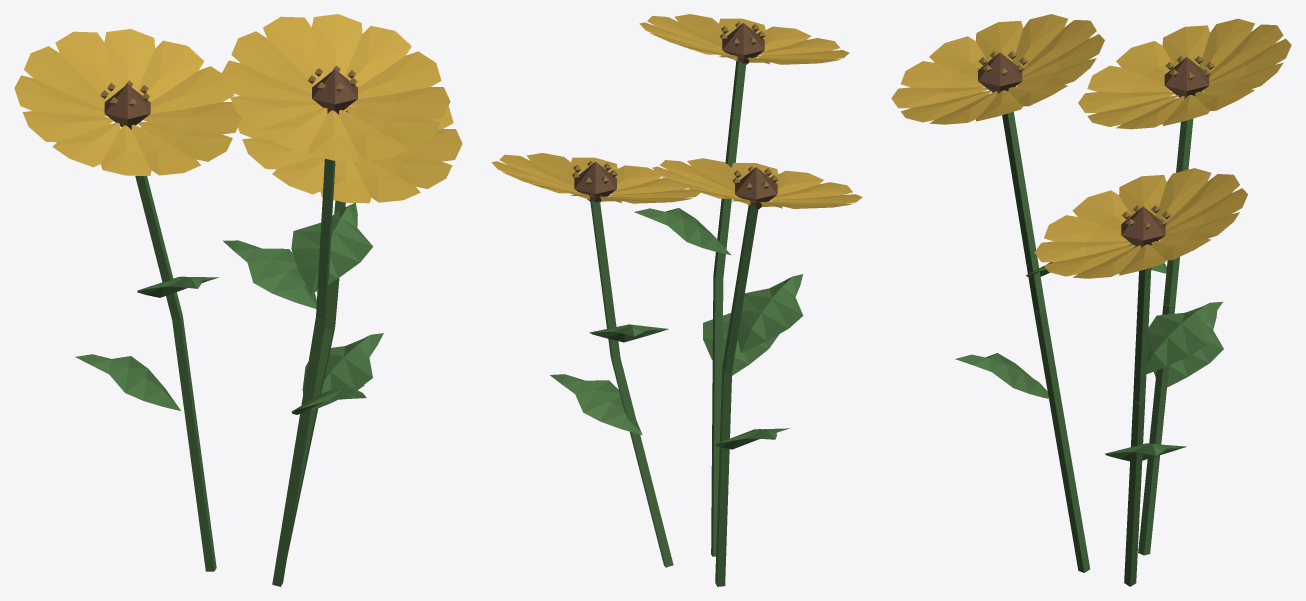
File: flower_summer_c.glb
3 renders of one model, left to right at view 1: azimuth 30°, elevation 25°; view 2: azimuth 150°, elevation 25°; view 3: azimuth 270°, elevation 25°, orthographic. The views are drawn at different scales.
Visible parts, largest first — view 1: plant; view 2: plant; view 3: plant.
Part boxes in pixels (x1=…): plant: x1=14, y1=14, x2=462, y2=586; plant: x1=491, y1=14, x2=862, y2=586; plant: x1=891, y1=14, x2=1291, y2=586.
Bounding box in the file's own units: 0.3357 × 0.45 × 0.3038.
